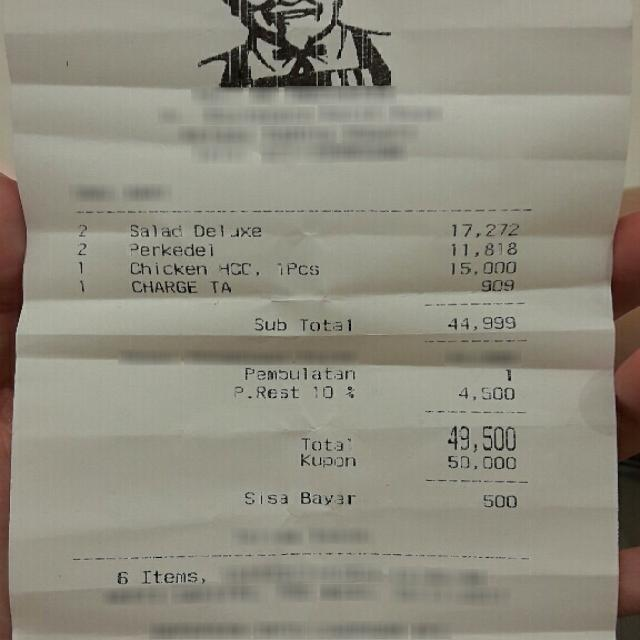kertas: (6, 0, 630, 640)
